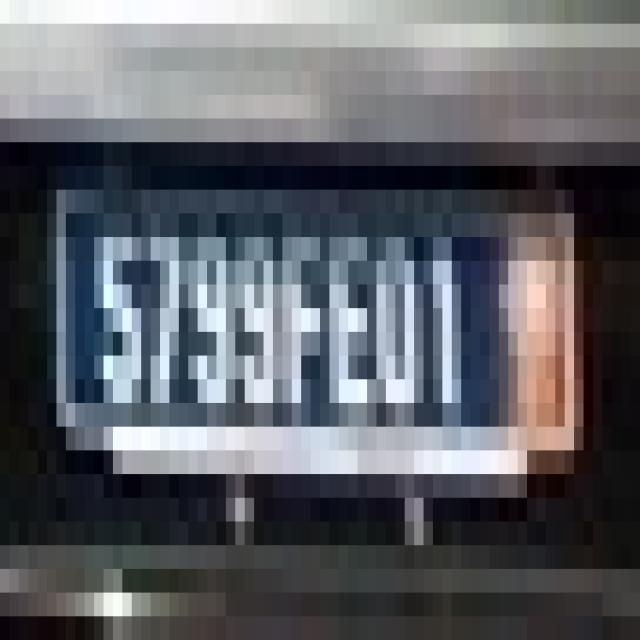licenseplate: (38, 83, 592, 517)
